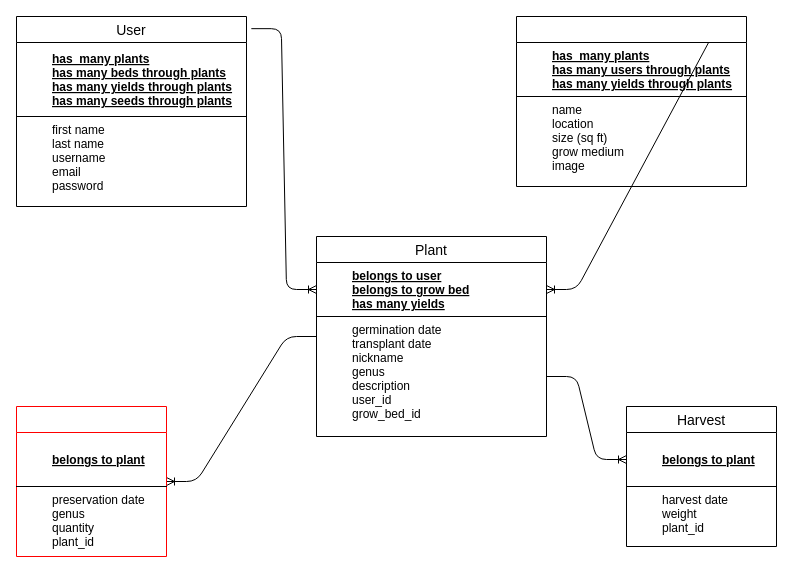
This 793x573 diagram has some shape labels left out. Each missing label, with the box of its shape:
Grow Bed: (516, 16, 746, 186)
Seed: (16, 406, 166, 556)
